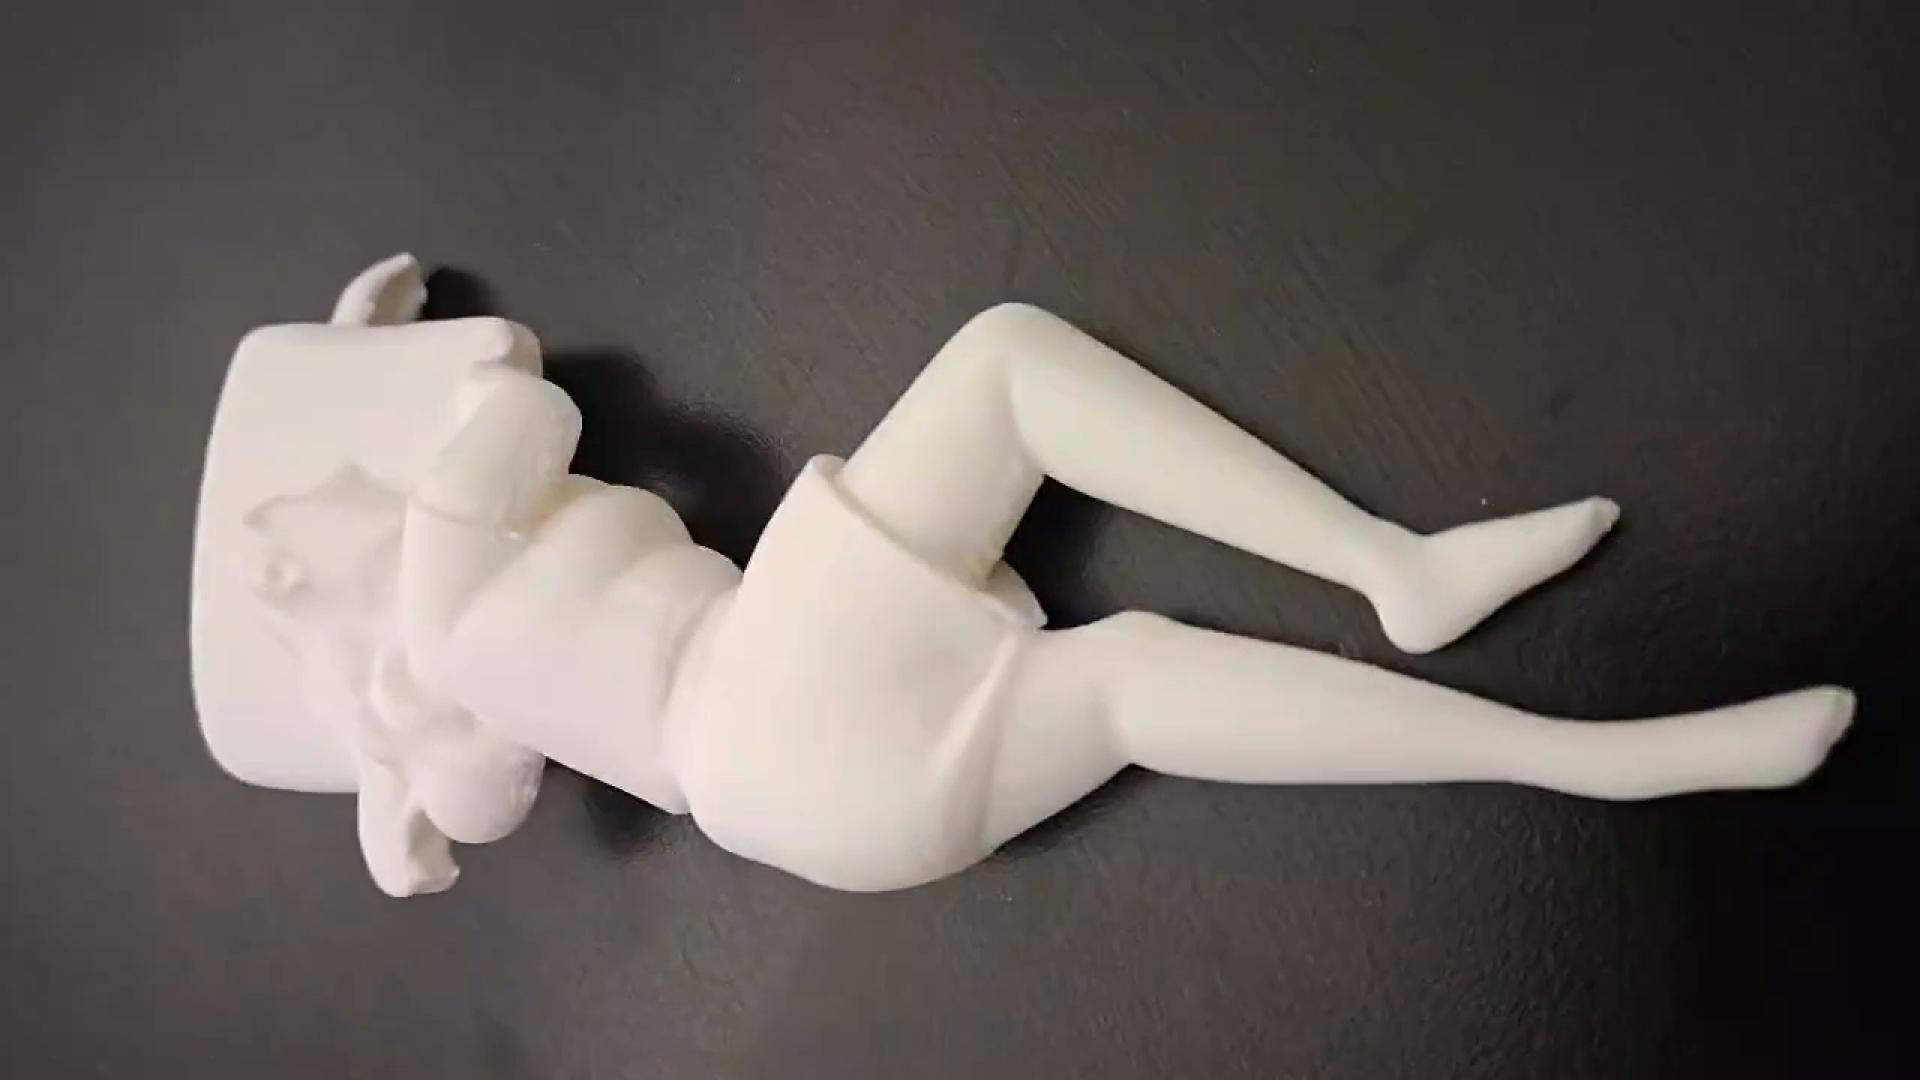Good-style: (186, 253, 1859, 910)
